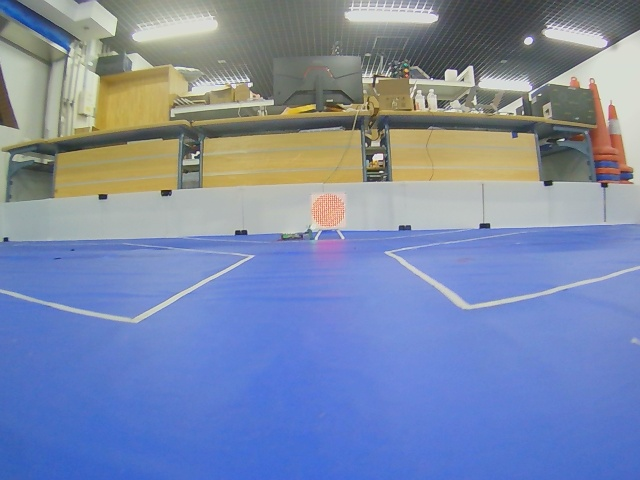red: (311, 193, 346, 230)
